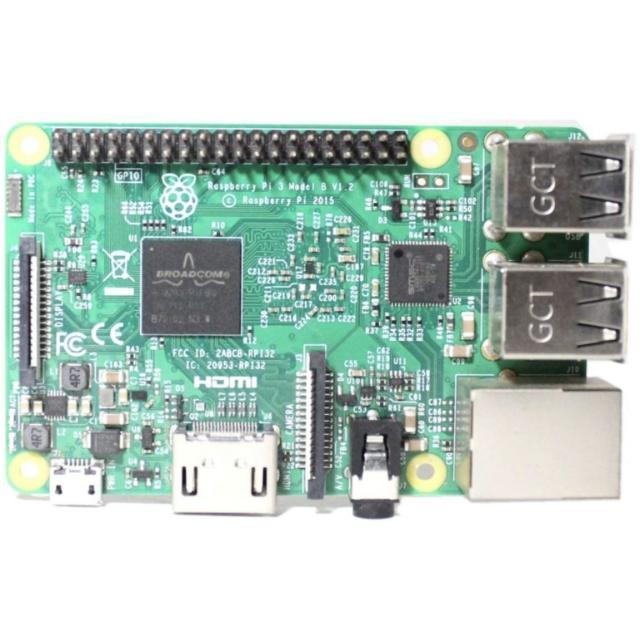Raspberry-Pi-3-B: (7, 125, 631, 518)
